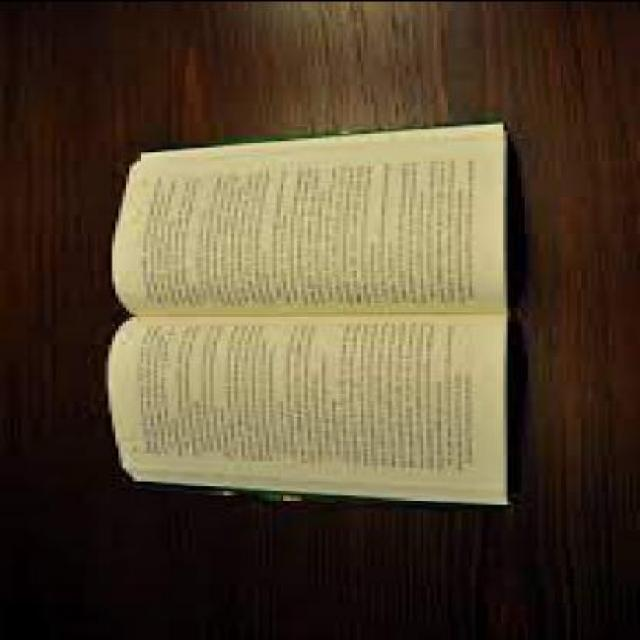book: (73, 110, 562, 548)
